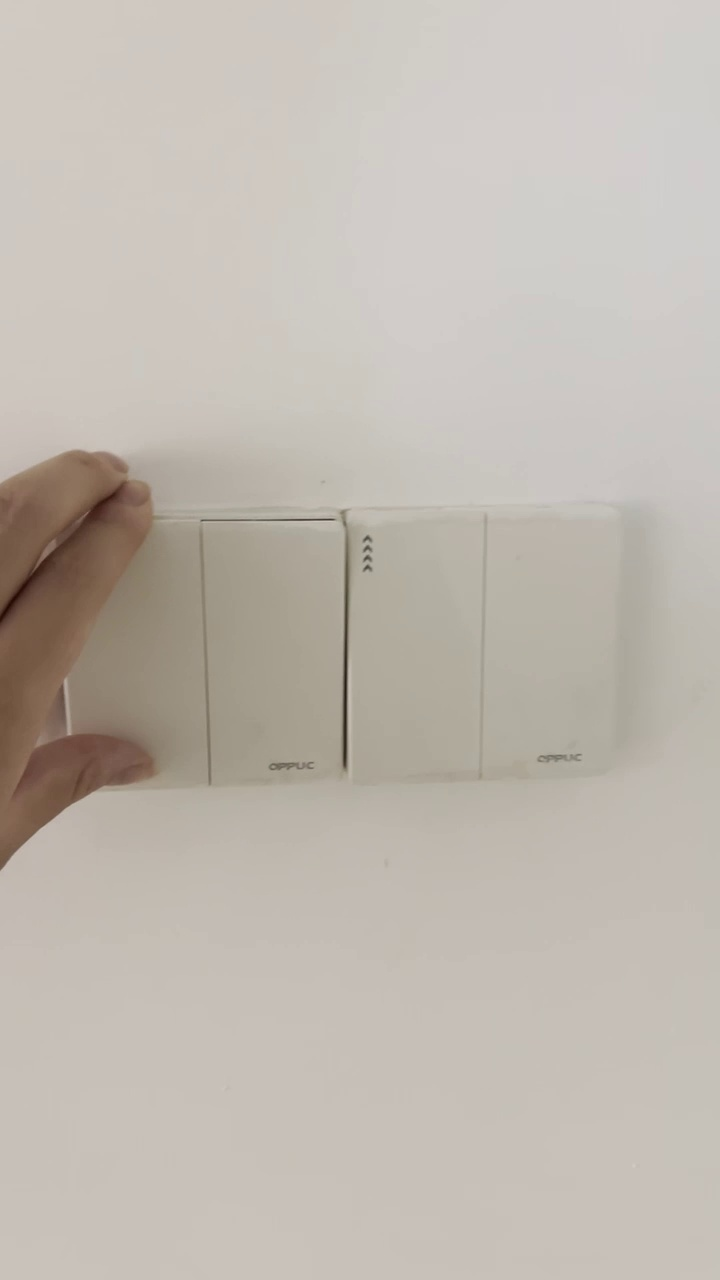button1: (66, 523, 205, 784), (209, 530, 345, 784), (354, 513, 476, 777), (489, 512, 610, 775)
